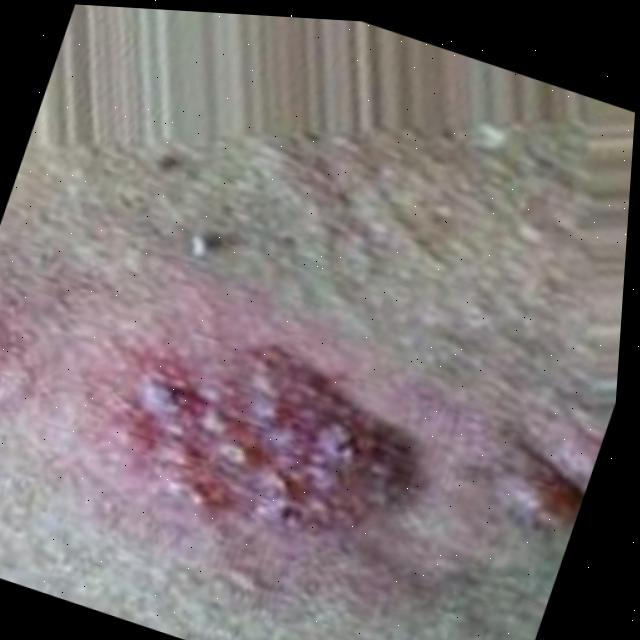Shingles: (95, 302, 435, 569)
